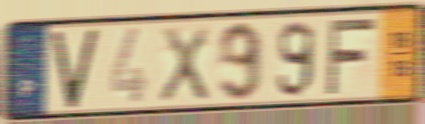4: (108, 24, 149, 107)
9: (217, 19, 264, 103), (274, 18, 317, 98)
F: (324, 15, 379, 98)
V: (49, 25, 101, 111)
X: (157, 23, 211, 106)
